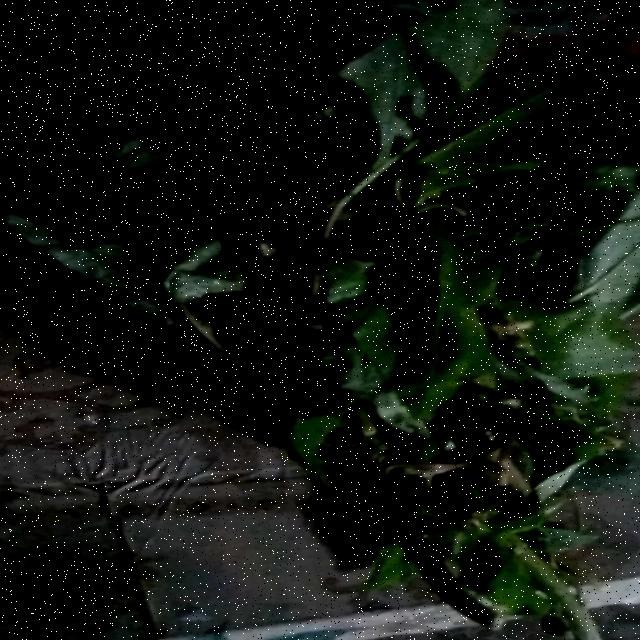Spinach: (26, 27, 628, 605)
